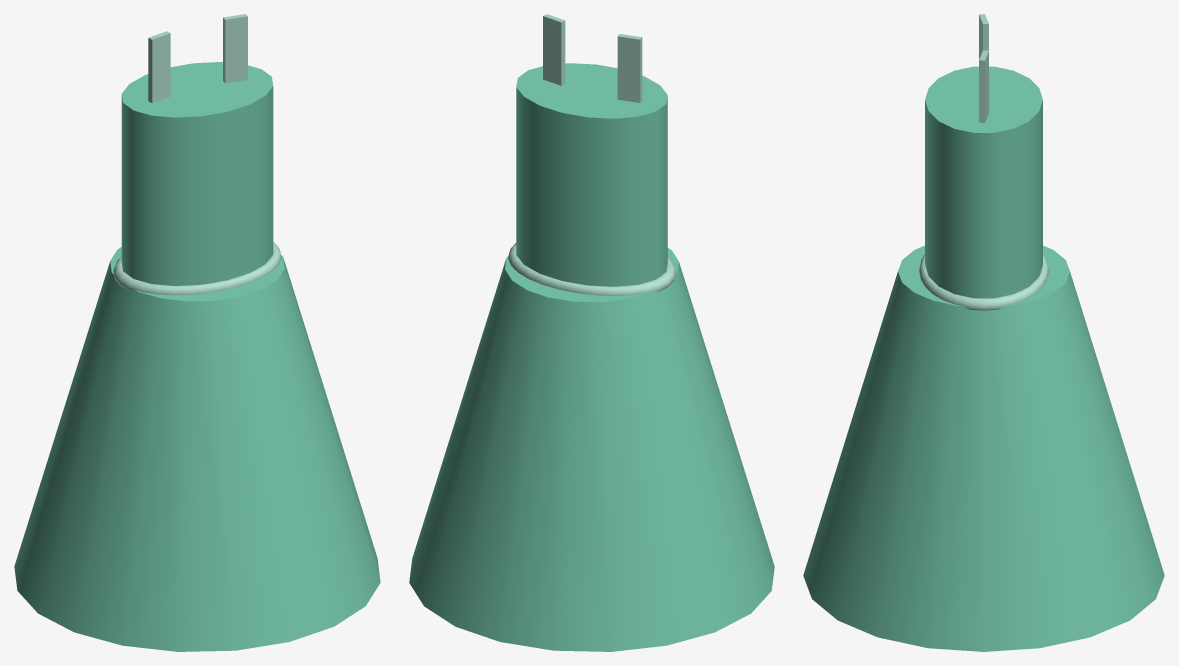
Rendered from VM-NIN-8860.glb.
The picture shows the model from 3 angles, left to right: view 1: azimuth 30°, elevation 25°; view 2: azimuth 150°, elevation 25°; view 3: azimuth 270°, elevation 25°; orthographic projection.
Parts seen in each view (by area): view 1: Vestido Plisado Soft Blossom; view 2: Vestido Plisado Soft Blossom; view 3: Vestido Plisado Soft Blossom.
Boxes of the visible parts, left/top/right/bottom form: Vestido Plisado Soft Blossom: left=14, top=14, right=380, bottom=651; Vestido Plisado Soft Blossom: left=409, top=14, right=774, bottom=651; Vestido Plisado Soft Blossom: left=803, top=14, right=1164, bottom=651.
Size of the model in its own units: 0.5208 by 0.8556 by 0.5208.
